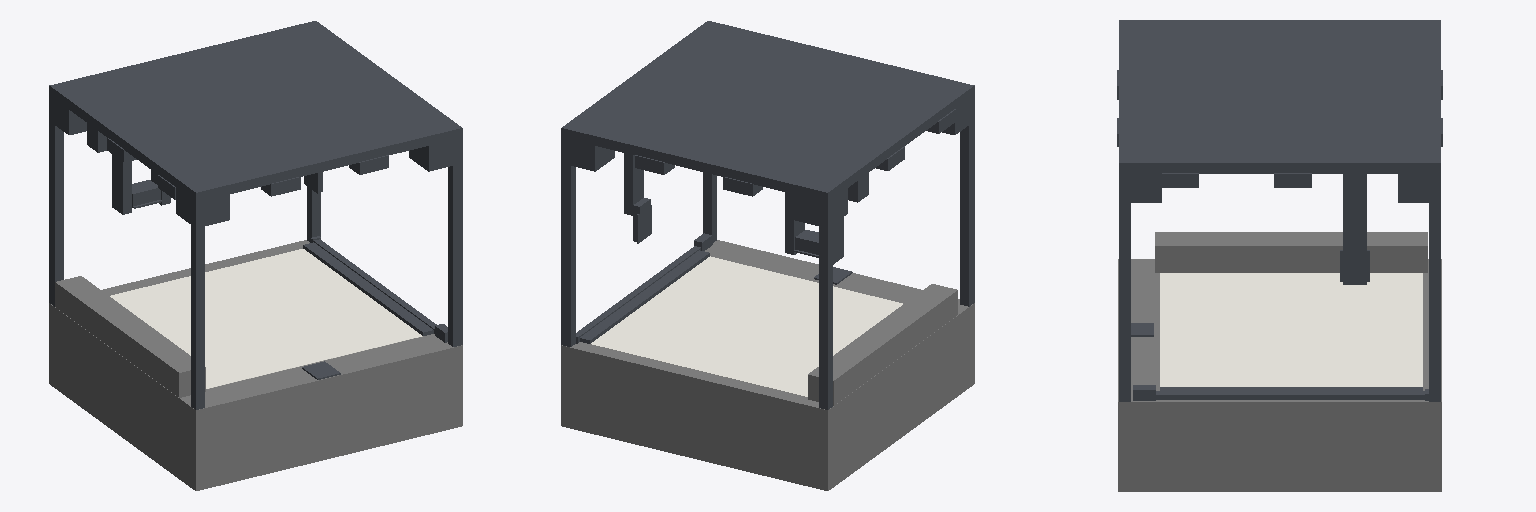
robot.urdf — aris_final_rig_env:
<?xml version='1.0' encoding='utf-8'?>
<robot name="aris_final_rig_env">
  <link name="world" />
  <link name="paper">
    <visual>
      <origin xyz="0.9017 0.85 -0.001" />
      <geometry>
        <box size="1.8034 1.7 0.002" />
      </geometry>
      <material name="paper_mat">
        <color rgba="0.98 0.97 0.94 1.0" />
      </material>
    </visual>
    <collision>
      <origin xyz="0.9017 0.85 -0.001" />
      <geometry>
        <box size="1.8034 1.7 0.002" />
      </geometry>
    </collision>
  </link>
  <joint name="paper_weld" type="fixed">
    <parent link="world" />
    <child link="paper" />
  </joint>
  <link name="frame_table_block">
    <visual>
      <origin xyz="0.87974 0.77392 -0.31934" />
      <geometry>
        <box size="2.1924 2.0908 0.63468" />
      </geometry>
      <material name="frame_table_block_mat">
        <color rgba="0.55 0.55 0.55 1.0" />
      </material>
    </visual>
    <collision>
      <origin xyz="0.87974 0.77392 -0.31934" />
      <geometry>
        <box size="2.1924 2.0908 0.63468" />
      </geometry>
    </collision>
  </link>
  <joint name="frame_table_block_weld" type="fixed">
    <parent link="world" />
    <child link="frame_table_block" />
  </joint>
  <link name="frame_post_FL">
    <visual>
      <origin xyz="-0.17436 -0.22938 0.83622" />
      <geometry>
        <box size="0.0762 0.0762 1.7272" />
      </geometry>
      <material name="frame_post_FL_mat">
        <color rgba="0.35 0.37 0.4 1.0" />
      </material>
    </visual>
    <collision>
      <origin xyz="-0.17436 -0.22938 0.83622" />
      <geometry>
        <box size="0.0762 0.0762 1.7272" />
      </geometry>
    </collision>
  </link>
  <joint name="frame_post_FL_weld" type="fixed">
    <parent link="world" />
    <child link="frame_post_FL" />
  </joint>
  <link name="frame_post_FR">
    <visual>
      <origin xyz="1.93384 -0.22938 0.83622" />
      <geometry>
        <box size="0.0762 0.0762 1.7272" />
      </geometry>
      <material name="frame_post_FR_mat">
        <color rgba="0.35 0.37 0.4 1.0" />
      </material>
    </visual>
    <collision>
      <origin xyz="1.93384 -0.22938 0.83622" />
      <geometry>
        <box size="0.0762 0.0762 1.7272" />
      </geometry>
    </collision>
  </link>
  <joint name="frame_post_FR_weld" type="fixed">
    <parent link="world" />
    <child link="frame_post_FR" />
  </joint>
  <link name="frame_post_BL">
    <visual>
      <origin xyz="-0.17436 1.77722 0.83622" />
      <geometry>
        <box size="0.0762 0.0762 1.7272" />
      </geometry>
      <material name="frame_post_BL_mat">
        <color rgba="0.35 0.37 0.4 1.0" />
      </material>
    </visual>
    <collision>
      <origin xyz="-0.17436 1.77722 0.83622" />
      <geometry>
        <box size="0.0762 0.0762 1.7272" />
      </geometry>
    </collision>
  </link>
  <joint name="frame_post_BL_weld" type="fixed">
    <parent link="world" />
    <child link="frame_post_BL" />
  </joint>
  <link name="frame_post_BR">
    <visual>
      <origin xyz="1.93384 1.77722 0.83622" />
      <geometry>
        <box size="0.0762 0.0762 1.7272" />
      </geometry>
      <material name="frame_post_BR_mat">
        <color rgba="0.35 0.37 0.4 1.0" />
      </material>
    </visual>
    <collision>
      <origin xyz="1.93384 1.77722 0.83622" />
      <geometry>
        <box size="0.0762 0.0762 1.7272" />
      </geometry>
    </collision>
  </link>
  <joint name="frame_post_BR_weld" type="fixed">
    <parent link="world" />
    <child link="frame_post_BR" />
  </joint>
  <link name="frame_top_slab">
    <visual>
      <origin xyz="0.88004 0.77392 1.66172" />
      <geometry>
        <box size="2.185 2.0828 0.0762" />
      </geometry>
      <material name="frame_top_slab_mat">
        <color rgba="0.35 0.37 0.4 1.0" />
      </material>
    </visual>
    <collision>
      <origin xyz="0.88004 0.77392 1.66172" />
      <geometry>
        <box size="2.185 2.0828 0.0762" />
      </geometry>
    </collision>
  </link>
  <joint name="frame_top_slab_weld" type="fixed">
    <parent link="world" />
    <child link="frame_top_slab" />
  </joint>
  <link name="frame_brace_FL">
    <visual>
      <origin xyz="-0.07276 -0.12778 1.52202" />
      <geometry>
        <box size="0.2794 0.2794 0.2032" />
      </geometry>
      <material name="frame_brace_FL_mat">
        <color rgba="0.35 0.37 0.4 1.0" />
      </material>
    </visual>
    <collision>
      <origin xyz="-0.07276 -0.12778 1.52202" />
      <geometry>
        <box size="0.2794 0.2794 0.2032" />
      </geometry>
    </collision>
  </link>
  <joint name="frame_brace_FL_weld" type="fixed">
    <parent link="world" />
    <child link="frame_brace_FL" />
  </joint>
  <link name="frame_brace_FR">
    <visual>
      <origin xyz="1.83224 -0.12778 1.52202" />
      <geometry>
        <box size="0.2794 0.2794 0.2032" />
      </geometry>
      <material name="frame_brace_FR_mat">
        <color rgba="0.35 0.37 0.4 1.0" />
      </material>
    </visual>
    <collision>
      <origin xyz="1.83224 -0.12778 1.52202" />
      <geometry>
        <box size="0.2794 0.2794 0.2032" />
      </geometry>
    </collision>
  </link>
  <joint name="frame_brace_FR_weld" type="fixed">
    <parent link="world" />
    <child link="frame_brace_FR" />
  </joint>
  <link name="frame_brace_BL">
    <visual>
      <origin xyz="-0.07276 1.67562 1.52202" />
      <geometry>
        <box size="0.2794 0.2794 0.2032" />
      </geometry>
      <material name="frame_brace_BL_mat">
        <color rgba="0.35 0.37 0.4 1.0" />
      </material>
    </visual>
    <collision>
      <origin xyz="-0.07276 1.67562 1.52202" />
      <geometry>
        <box size="0.2794 0.2794 0.2032" />
      </geometry>
    </collision>
  </link>
  <joint name="frame_brace_BL_weld" type="fixed">
    <parent link="world" />
    <child link="frame_brace_BL" />
  </joint>
  <link name="frame_brace_BR">
    <visual>
      <origin xyz="1.83224 1.67562 1.52202" />
      <geometry>
        <box size="0.2794 0.2794 0.2032" />
      </geometry>
      <material name="frame_brace_BR_mat">
        <color rgba="0.35 0.37 0.4 1.0" />
      </material>
    </visual>
    <collision>
      <origin xyz="1.83224 1.67562 1.52202" />
      <geometry>
        <box size="0.2794 0.2794 0.2032" />
      </geometry>
    </collision>
  </link>
  <joint name="frame_brace_BR_weld" type="fixed">
    <parent link="world" />
    <child link="frame_brace_BR" />
  </joint>
  <link name="frame_down_boom_W">
    <visual>
      <origin xyz="0.06094 1.25702 1.25547" />
      <geometry>
        <box size="0.0772 0.1524 0.7369" />
      </geometry>
      <material name="frame_down_boom_W_mat">
        <color rgba="0.35 0.37 0.4 1.0" />
      </material>
    </visual>
    <collision>
      <origin xyz="0.06094 1.25702 1.25547" />
      <geometry>
        <box size="0.0772 0.1524 0.7369" />
      </geometry>
    </collision>
  </link>
  <joint name="frame_down_boom_W_weld" type="fixed">
    <parent link="world" />
    <child link="frame_down_boom_W" />
  </joint>
  <link name="frame_down_boom_E">
    <visual>
      <origin xyz="0.37854 1.25702 1.25547" />
      <geometry>
        <box size="0.077 0.1524 0.7369" />
      </geometry>
      <material name="frame_down_boom_E_mat">
        <color rgba="0.35 0.37 0.4 1.0" />
      </material>
    </visual>
    <collision>
      <origin xyz="0.37854 1.25702 1.25547" />
      <geometry>
        <box size="0.077 0.1524 0.7369" />
      </geometry>
    </collision>
  </link>
  <joint name="frame_down_boom_E_weld" type="fixed">
    <parent link="world" />
    <child link="frame_down_boom_E" />
  </joint>
  <link name="frame_down_gusset_W">
    <visual>
      <origin xyz="-0.07886 1.25702 1.52217" />
      <geometry>
        <box size="0.204 0.1524 0.2035" />
      </geometry>
      <material name="frame_down_gusset_W_mat">
        <color rgba="0.35 0.37 0.4 1.0" />
      </material>
    </visual>
    <collision>
      <origin xyz="-0.07886 1.25702 1.52217" />
      <geometry>
        <box size="0.204 0.1524 0.2035" />
      </geometry>
    </collision>
  </link>
  <joint name="frame_down_gusset_W_weld" type="fixed">
    <parent link="world" />
    <child link="frame_down_gusset_W" />
  </joint>
  <link name="frame_down_gusset_E">
    <visual>
      <origin xyz="0.51804 1.25702 1.52217" />
      <geometry>
        <box size="0.2044 0.1524 0.2035" />
      </geometry>
      <material name="frame_down_gusset_E_mat">
        <color rgba="0.35 0.37 0.4 1.0" />
      </material>
    </visual>
    <collision>
      <origin xyz="0.51804 1.25702 1.52217" />
      <geometry>
        <box size="0.2044 0.1524 0.2035" />
      </geometry>
    </collision>
  </link>
  <joint name="frame_down_gusset_E_weld" type="fixed">
    <parent link="world" />
    <child link="frame_down_gusset_E" />
  </joint>
  <link name="frame_down_clamps">
    <visual>
      <origin xyz="0.21984 1.25702 0.98257" />
      <geometry>
        <box size="0.226 0.1524 0.0957" />
      </geometry>
      <material name="frame_down_clamps_mat">
        <color rgba="0.35 0.37 0.4 1.0" />
      </material>
    </visual>
    <collision>
      <origin xyz="0.21984 1.25702 0.98257" />
      <geometry>
        <box size="0.226 0.1524 0.0957" />
      </geometry>
    </collision>
  </link>
  <joint name="frame_down_clamps_weld" type="fixed">
    <parent link="world" />
    <child link="frame_down_clamps" />
  </joint>
  <link name="frame_down_plate">
    <visual>
      <origin xyz="0.21976 1.25678 0.92835" />
      <geometry>
        <box size="0.22582 0.19 0.0127" />
      </geometry>
      <material name="frame_down_plate_mat">
        <color rgba="0.35 0.37 0.4 1.0" />
      </material>
    </visual>
    <collision>
      <origin xyz="0.21976 1.25678 0.92835" />
      <geometry>
        <box size="0.22582 0.19 0.0127" />
      </geometry>
    </collision>
  </link>
  <joint name="frame_down_plate_weld" type="fixed">
    <parent link="world" />
    <child link="frame_down_plate" />
  </joint>
  <link name="frame_side_boom">
    <visual>
      <origin xyz="1.69869 1.25702 1.25552" />
      <geometry>
        <box size="0.0767 0.1524 0.737" />
      </geometry>
      <material name="frame_side_boom_mat">
        <color rgba="0.35 0.37 0.4 1.0" />
      </material>
    </visual>
    <collision>
      <origin xyz="1.69869 1.25702 1.25552" />
      <geometry>
        <box size="0.0767 0.1524 0.737" />
      </geometry>
    </collision>
  </link>
  <joint name="frame_side_boom_weld" type="fixed">
    <parent link="world" />
    <child link="frame_side_boom" />
  </joint>
  <link name="frame_side_gusset">
    <visual>
      <origin xyz="1.83874 1.25702 1.52217" />
      <geometry>
        <box size="0.204 0.1524 0.2035" />
      </geometry>
      <material name="frame_side_gusset_mat">
        <color rgba="0.35 0.37 0.4 1.0" />
      </material>
    </visual>
    <collision>
      <origin xyz="1.83874 1.25702 1.52217" />
      <geometry>
        <box size="0.204 0.1524 0.2035" />
      </geometry>
    </collision>
  </link>
  <joint name="frame_side_gusset_weld" type="fixed">
    <parent link="world" />
    <child link="frame_side_gusset" />
  </joint>
  <link name="frame_side_clamps">
    <visual>
      <origin xyz="1.64159 1.25722 0.80112" />
      <geometry>
        <box size="0.0381 0.152 0.2258" />
      </geometry>
      <material name="frame_side_clamps_mat">
        <color rgba="0.35 0.37 0.4 1.0" />
      </material>
    </visual>
    <collision>
      <origin xyz="1.64159 1.25722 0.80112" />
      <geometry>
        <box size="0.0381 0.152 0.2258" />
      </geometry>
    </collision>
  </link>
  <joint name="frame_side_clamps_weld" type="fixed">
    <parent link="world" />
    <child link="frame_side_clamps" />
  </joint>
  <link name="frame_side_bracket">
    <visual>
      <origin xyz="1.63384 1.25722 0.94282" />
      <geometry>
        <box size="0.054 0.152 0.0576" />
      </geometry>
      <material name="frame_side_bracket_mat">
        <color rgba="0.35 0.37 0.4 1.0" />
      </material>
    </visual>
    <collision>
      <origin xyz="1.63384 1.25722 0.94282" />
      <geometry>
        <box size="0.054 0.152 0.0576" />
      </geometry>
    </collision>
  </link>
  <joint name="frame_side_bracket_weld" type="fixed">
    <parent link="world" />
    <child link="frame_side_bracket" />
  </joint>
  <link name="frame_side_plate">
    <visual>
      <origin xyz="1.61619 1.25723 0.80109" />
      <geometry>
        <box size="0.0127 0.19 0.22582" />
      </geometry>
      <material name="frame_side_plate_mat">
        <color rgba="0.35 0.37 0.4 1.0" />
      </material>
    </visual>
    <collision>
      <origin xyz="1.61619 1.25723 0.80109" />
      <geometry>
        <box size="0.0127 0.19 0.22582" />
      </geometry>
    </collision>
  </link>
  <joint name="frame_side_plate_weld" type="fixed">
    <parent link="world" />
    <child link="frame_side_plate" />
  </joint>
  <link name="frame_up_plate">
    <visual>
      <origin xyz="0.88043 -0.1518 0.00435" />
      <geometry>
        <box size="0.19 0.226 0.0127" />
      </geometry>
      <material name="frame_up_plate_mat">
        <color rgba="0.35 0.37 0.4 1.0" />
      </material>
    </visual>
    <collision>
      <origin xyz="0.88043 -0.1518 0.00435" />
      <geometry>
        <box size="0.19 0.226 0.0127" />
      </geometry>
    </collision>
  </link>
  <joint name="frame_up_plate_weld" type="fixed">
    <parent link="world" />
    <child link="frame_up_plate" />
  </joint>
  <link name="frame_feed_roll">
    <visual>
      <origin xyz="-0.10646 0.85002 0.09132" />
      <geometry>
        <box size="0.215 1.765 0.206" />
      </geometry>
      <material name="frame_feed_roll_mat">
        <color rgba="0.55 0.55 0.55 1.0" />
      </material>
    </visual>
    <collision>
      <origin xyz="-0.10646 0.85002 0.09132" />
      <geometry>
        <box size="0.215 1.765 0.206" />
      </geometry>
    </collision>
  </link>
  <joint name="frame_feed_roll_weld" type="fixed">
    <parent link="world" />
    <child link="frame_feed_roll" />
  </joint>
  <link name="frame_guide_rods">
    <visual>
      <origin xyz="1.91704 0.84002 0.01707" />
      <geometry>
        <box size="0.053 1.739 0.0395" />
      </geometry>
      <material name="frame_guide_rods_mat">
        <color rgba="0.35 0.37 0.4 1.0" />
      </material>
    </visual>
    <collision>
      <origin xyz="1.91704 0.84002 0.01707" />
      <geometry>
        <box size="0.053 1.739 0.0395" />
      </geometry>
    </collision>
  </link>
  <joint name="frame_guide_rods_weld" type="fixed">
    <parent link="world" />
    <child link="frame_guide_rods" />
  </joint>
  <link name="frame_winder_box">
    <visual>
      <origin xyz="1.91824 1.72362 0.02302" />
      <geometry>
        <box size="0.07 0.03 0.05" />
      </geometry>
      <material name="frame_winder_box_mat">
        <color rgba="0.35 0.37 0.4 1.0" />
      </material>
    </visual>
    <collision>
      <origin xyz="1.91824 1.72362 0.02302" />
      <geometry>
        <box size="0.07 0.03 0.05" />
      </geometry>
    </collision>
  </link>
  <joint name="frame_winder_box_weld" type="fixed">
    <parent link="world" />
    <child link="frame_winder_box" />
  </joint>
  <link name="frame_crank_motor">
    <visual>
      <origin xyz="1.91634 -0.10148 0.03737" />
      <geometry>
        <box size="0.07 0.1444 0.0787" />
      </geometry>
      <material name="frame_crank_motor_mat">
        <color rgba="0.35 0.37 0.4 1.0" />
      </material>
    </visual>
    <collision>
      <origin xyz="1.91634 -0.10148 0.03737" />
      <geometry>
        <box size="0.07 0.1444 0.0787" />
      </geometry>
    </collision>
  </link>
  <joint name="frame_crank_motor_weld" type="fixed">
    <parent link="world" />
    <child link="frame_crank_motor" />
  </joint>
  <link name="frame_paper_curl">
    <visual>
      <origin xyz="1.86504 0.85002 0.01232" />
      <geometry>
        <box size="0.125 1.701 0.03" />
      </geometry>
      <material name="frame_paper_curl_mat">
        <color rgba="0.35 0.37 0.4 1.0" />
      </material>
    </visual>
    <collision>
      <origin xyz="1.86504 0.85002 0.01232" />
      <geometry>
        <box size="0.125 1.701 0.03" />
      </geometry>
    </collision>
  </link>
  <joint name="frame_paper_curl_weld" type="fixed">
    <parent link="world" />
    <child link="frame_paper_curl" />
  </joint>
  <link name="frame_device_F1">
    <visual>
      <origin xyz="0.51854 -0.20398 1.58022" />
      <geometry>
        <box size="0.242 0.147 0.0978" />
      </geometry>
      <material name="frame_device_F1_mat">
        <color rgba="0.35 0.37 0.4 1.0" />
      </material>
    </visual>
    <collision>
      <origin xyz="0.51854 -0.20398 1.58022" />
      <geometry>
        <box size="0.242 0.147 0.0978" />
      </geometry>
    </collision>
  </link>
  <joint name="frame_device_F1_weld" type="fixed">
    <parent link="world" />
    <child link="frame_device_F1" />
  </joint>
  <link name="frame_device_F2">
    <visual>
      <origin xyz="1.24254 -0.20398 1.58022" />
      <geometry>
        <box size="0.242 0.147 0.0978" />
      </geometry>
      <material name="frame_device_F2_mat">
        <color rgba="0.35 0.37 0.4 1.0" />
      </material>
    </visual>
    <collision>
      <origin xyz="1.24254 -0.20398 1.58022" />
      <geometry>
        <box size="0.242 0.147 0.0978" />
      </geometry>
    </collision>
  </link>
  <joint name="frame_device_F2_weld" type="fixed">
    <parent link="world" />
    <child link="frame_device_F2" />
  </joint>
  <link name="frame_device_B1">
    <visual>
      <origin xyz="0.51854 1.75142 1.58022" />
      <geometry>
        <box size="0.242 0.1478 0.0978" />
      </geometry>
      <material name="frame_device_B1_mat">
        <color rgba="0.35 0.37 0.4 1.0" />
      </material>
    </visual>
    <collision>
      <origin xyz="0.51854 1.75142 1.58022" />
      <geometry>
        <box size="0.242 0.1478 0.0978" />
      </geometry>
    </collision>
  </link>
  <joint name="frame_device_B1_weld" type="fixed">
    <parent link="world" />
    <child link="frame_device_B1" />
  </joint>
  <link name="frame_device_B2">
    <visual>
      <origin xyz="1.24254 1.75142 1.58022" />
      <geometry>
        <box size="0.242 0.1478 0.0978" />
      </geometry>
      <material name="frame_device_B2_mat">
        <color rgba="0.35 0.37 0.4 1.0" />
      </material>
    </visual>
    <collision>
      <origin xyz="1.24254 1.75142 1.58022" />
      <geometry>
        <box size="0.242 0.1478 0.0978" />
      </geometry>
    </collision>
  </link>
  <joint name="frame_device_B2_weld" type="fixed">
    <parent link="world" />
    <child link="frame_device_B2" />
  </joint>
  <link name="frame_device_L1">
    <visual>
      <origin xyz="-0.14896 0.13252 1.58022" />
      <geometry>
        <box size="0.147 0.242 0.0978" />
      </geometry>
      <material name="frame_device_L1_mat">
        <color rgba="0.35 0.37 0.4 1.0" />
      </material>
    </visual>
    <collision>
      <origin xyz="-0.14896 0.13252 1.58022" />
      <geometry>
        <box size="0.147 0.242 0.0978" />
      </geometry>
    </collision>
  </link>
  <joint name="frame_device_L1_weld" type="fixed">
    <parent link="world" />
    <child link="frame_device_L1" />
  </joint>
  <link name="frame_device_L2">
    <visual>
      <origin xyz="-0.14896 0.85652 1.58022" />
      <geometry>
        <box size="0.147 0.242 0.0978" />
      </geometry>
      <material name="frame_device_L2_mat">
        <color rgba="0.35 0.37 0.4 1.0" />
      </material>
    </visual>
    <collision>
      <origin xyz="-0.14896 0.85652 1.58022" />
      <geometry>
        <box size="0.147 0.242 0.0978" />
      </geometry>
    </collision>
  </link>
  <joint name="frame_device_L2_weld" type="fixed">
    <parent link="world" />
    <child link="frame_device_L2" />
  </joint>
  <link name="frame_device_R1">
    <visual>
      <origin xyz="1.90854 0.13252 1.58022" />
      <geometry>
        <box size="0.148 0.242 0.0978" />
      </geometry>
      <material name="frame_device_R1_mat">
        <color rgba="0.35 0.37 0.4 1.0" />
      </material>
    </visual>
    <collision>
      <origin xyz="1.90854 0.13252 1.58022" />
      <geometry>
        <box size="0.148 0.242 0.0978" />
      </geometry>
    </collision>
  </link>
  <joint name="frame_device_R1_weld" type="fixed">
    <parent link="world" />
    <child link="frame_device_R1" />
  </joint>
  <link name="frame_device_R2">
    <visual>
      <origin xyz="1.90854 0.85652 1.58022" />
      <geometry>
        <box size="0.148 0.242 0.0978" />
      </geometry>
      <material name="frame_device_R2_mat">
        <color rgba="0.35 0.37 0.4 1.0" />
      </material>
    </visual>
    <collision>
      <origin xyz="1.90854 0.85652 1.58022" />
      <geometry>
        <box size="0.148 0.242 0.0978" />
      </geometry>
    </collision>
  </link>
  <joint name="frame_device_R2_weld" type="fixed">
    <parent link="world" />
    <child link="frame_device_R2" />
  </joint>
</robot>

--- What the picture shows (computed from the rendered views, not written in the file) ---
The picture shows the robot from 3 angles, left to right: view 1: azimuth 30°, elevation 25°; view 2: azimuth 150°, elevation 25°; view 3: azimuth 270°, elevation 25°; orthographic projection.
Robot: aris_final_rig_env — 37 links, 36 joints (36 fixed); root link world; default pose: every joint at zero.
Links seen in each view (by area): view 1: frame_top_slab, frame_table_block, paper, frame_feed_roll, frame_post_FR, frame_post_FL, frame_post_BL, frame_paper_curl, frame_brace_FL, frame_down_boom_W, frame_brace_FR, frame_guide_rods (+3 smaller); view 2: frame_top_slab, frame_table_block, paper, frame_feed_roll, frame_post_BR, frame_post_BL, frame_post_FL, frame_paper_curl, frame_brace_BL, frame_brace_BR, frame_side_boom, frame_post_FR (+2 smaller); view 3: frame_top_slab, frame_table_block, paper, frame_feed_roll, frame_post_FR, frame_post_BR, frame_guide_rods, frame_side_boom, frame_paper_curl, frame_brace_BR, frame_brace_FR, frame_side_gusset (+3 smaller).
Boxes of the visible links, box(x1,y1,x2,y2) form: frame_top_slab: box(49, 23, 462, 199); frame_table_block: box(49, 240, 462, 490); paper: box(110, 249, 422, 388); frame_feed_roll: box(55, 276, 205, 397); frame_post_FR: box(448, 124, 462, 346); frame_post_FL: box(191, 187, 204, 409); frame_post_BL: box(49, 84, 63, 306); frame_paper_curl: box(303, 242, 433, 335); frame_brace_FL: box(176, 188, 229, 227); frame_down_boom_W: box(112, 154, 131, 214); frame_brace_FR: box(409, 140, 462, 171); frame_guide_rods: box(313, 239, 436, 333); frame_top_slab: box(561, 23, 974, 201); frame_table_block: box(561, 240, 974, 490); paper: box(591, 256, 902, 396); frame_feed_roll: box(808, 284, 957, 405); frame_post_BR: box(561, 124, 575, 346); frame_post_BL: box(819, 187, 832, 409); frame_post_FL: box(960, 84, 974, 306); frame_paper_curl: box(580, 250, 709, 343); frame_brace_BL: box(794, 188, 847, 227); frame_brace_BR: box(561, 140, 614, 171); frame_side_boom: box(624, 153, 643, 215); frame_post_FR: box(703, 21, 716, 242); frame_top_slab: box(1119, 20, 1440, 173); frame_table_block: box(1118, 259, 1441, 491); paper: box(1160, 273, 1422, 386); frame_feed_roll: box(1155, 232, 1427, 272); frame_post_FR: box(1119, 158, 1130, 401); frame_post_BR: box(1429, 158, 1440, 401); frame_guide_rods: box(1156, 391, 1424, 399); frame_side_boom: box(1343, 201, 1366, 261); frame_paper_curl: box(1160, 387, 1422, 390); frame_brace_BR: box(1398, 174, 1440, 202); frame_brace_FR: box(1119, 174, 1161, 202); frame_side_gusset: box(1343, 174, 1366, 200).
Size in the robot's own frame: 2.21 by 2.1 by 2.34 metres.
Geometry: primitives only (box / cylinder / sphere), no mesh files.
